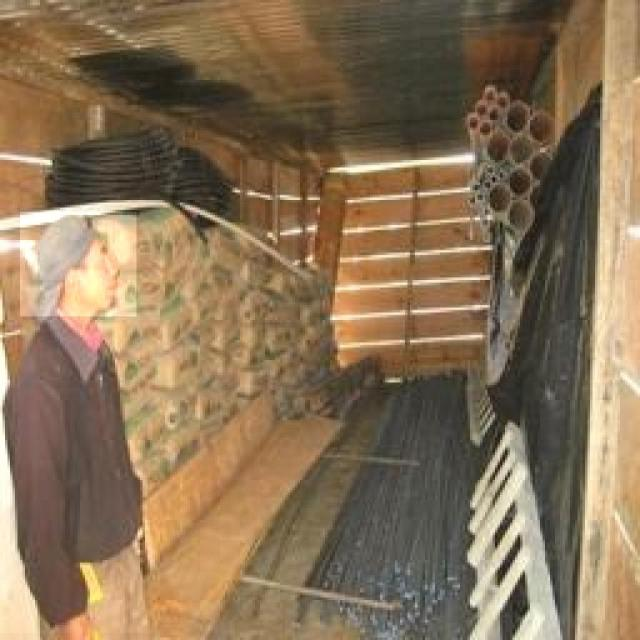Helmet: (0, 317, 160, 633), (20, 212, 136, 316)
